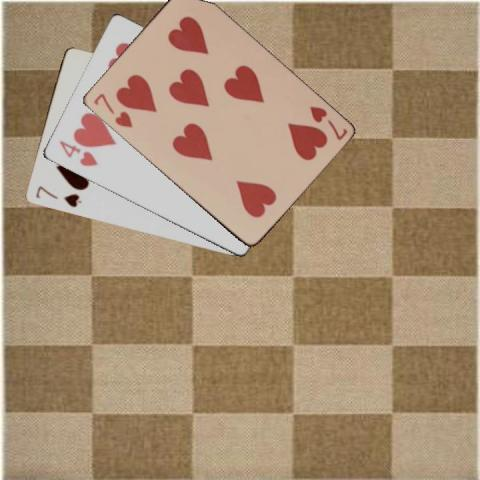4h: (55, 137, 99, 168)
7h: (90, 90, 134, 129), (306, 103, 349, 142)
7s: (32, 183, 83, 209)
